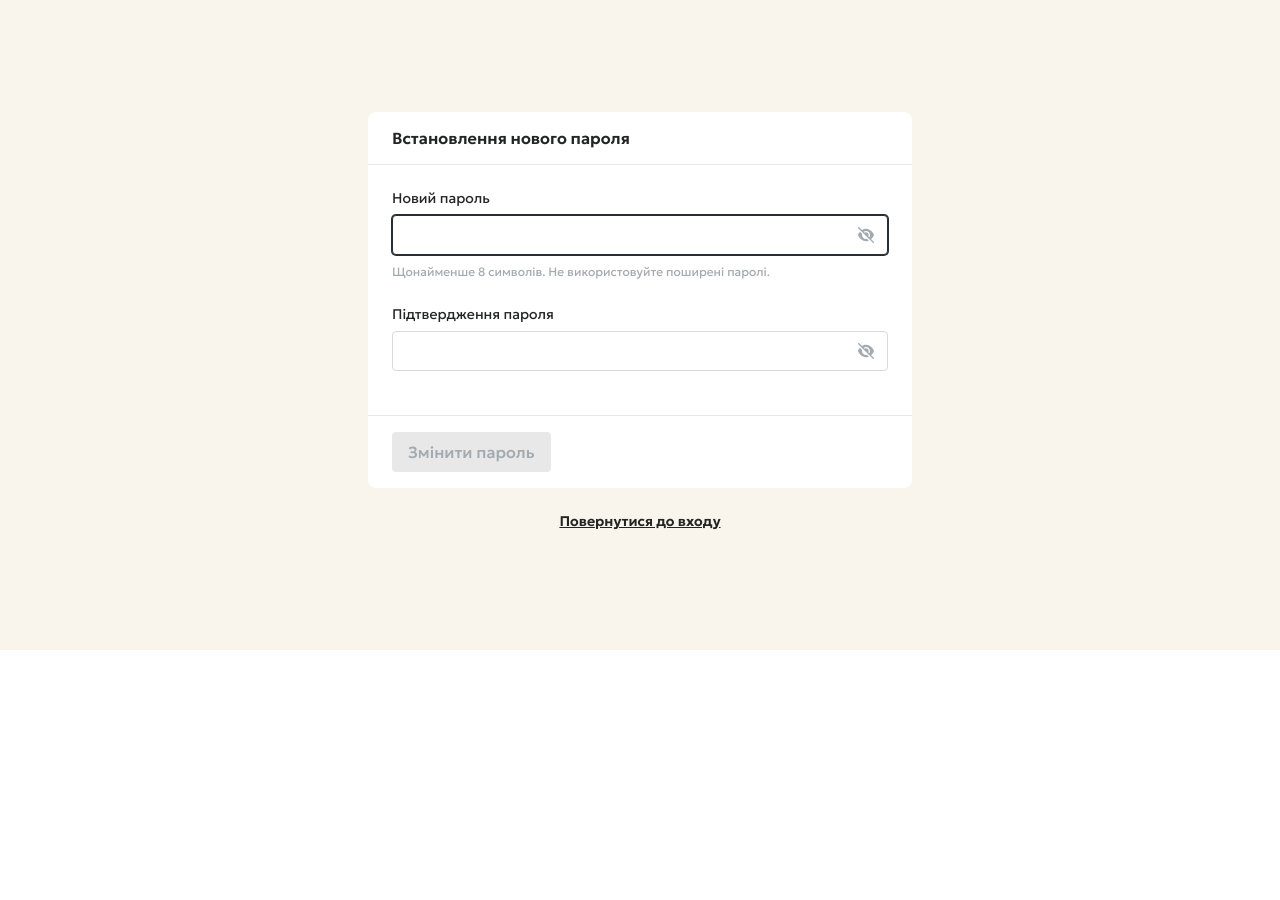
Test: RestorePassword page › shows password complexity errors returned by the backend
Step 1. Type "SecurePass123!" into the password field labelled "Новий пароль" → (640, 235), box [392,215,888,255]
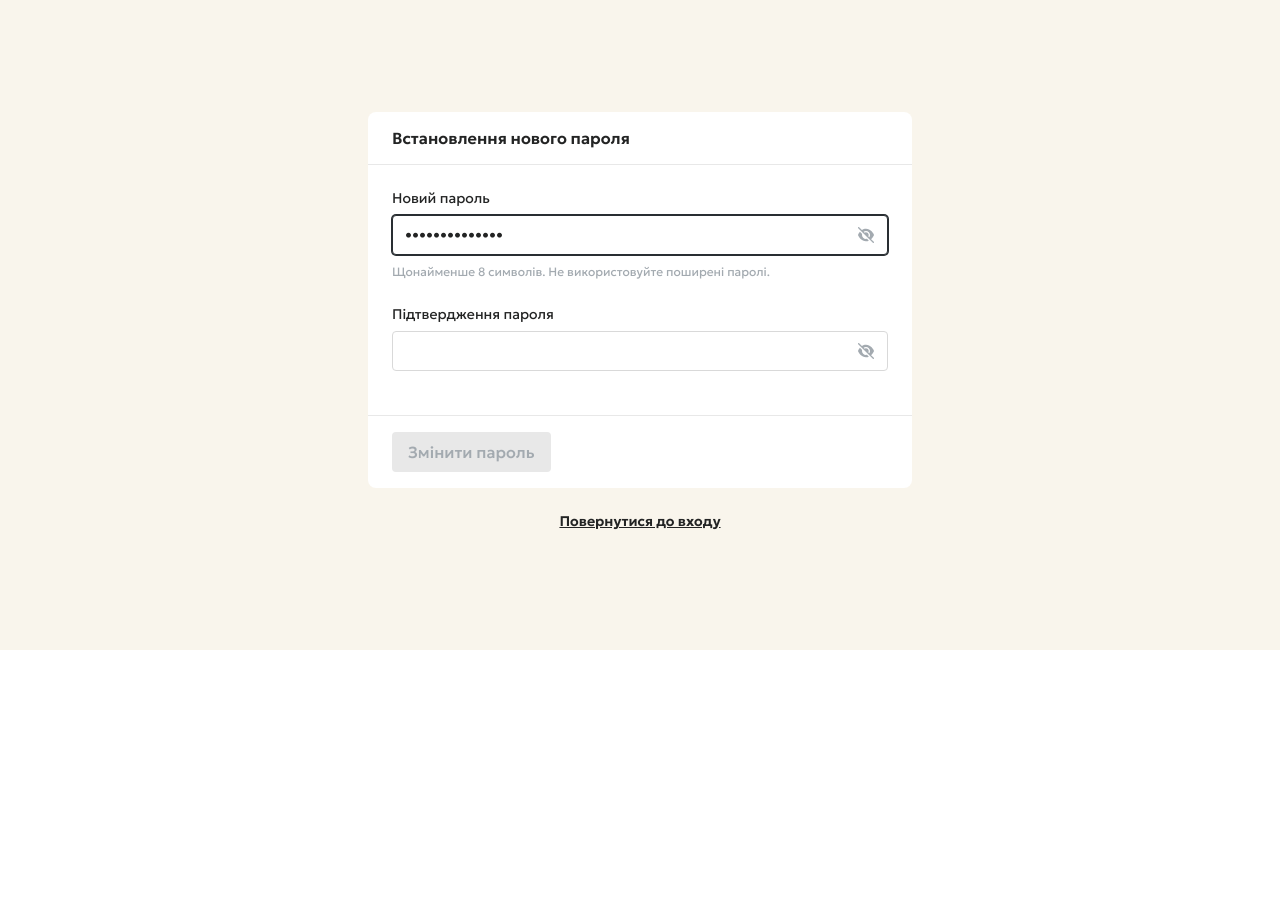
Step 2. Type "SecurePass123!" into the password field labelled "Підтвердження пароля" → (640, 351), box [392,331,888,371]
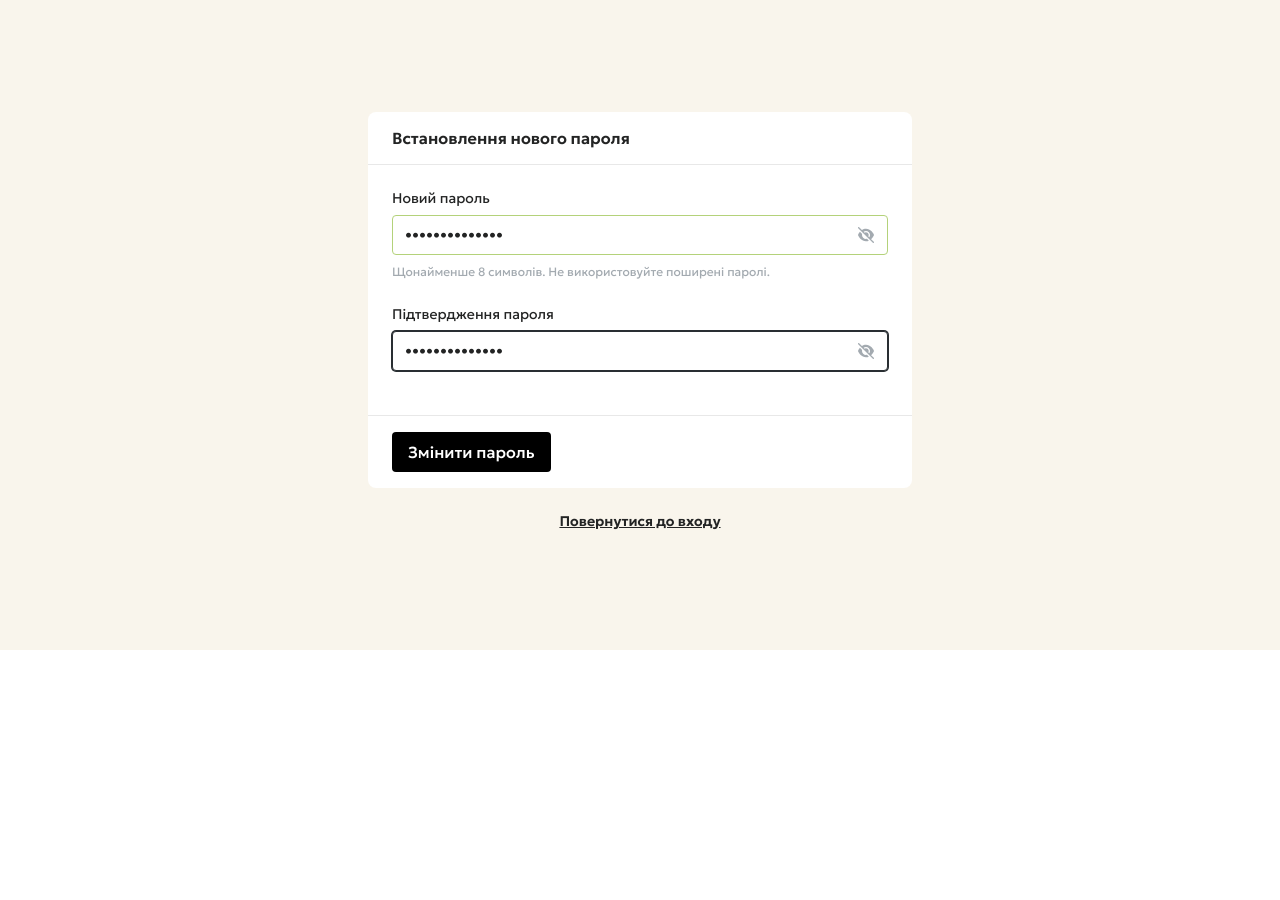
Step 3. Click the button "Змінити пароль" → (471, 452), box [392,432,551,472]
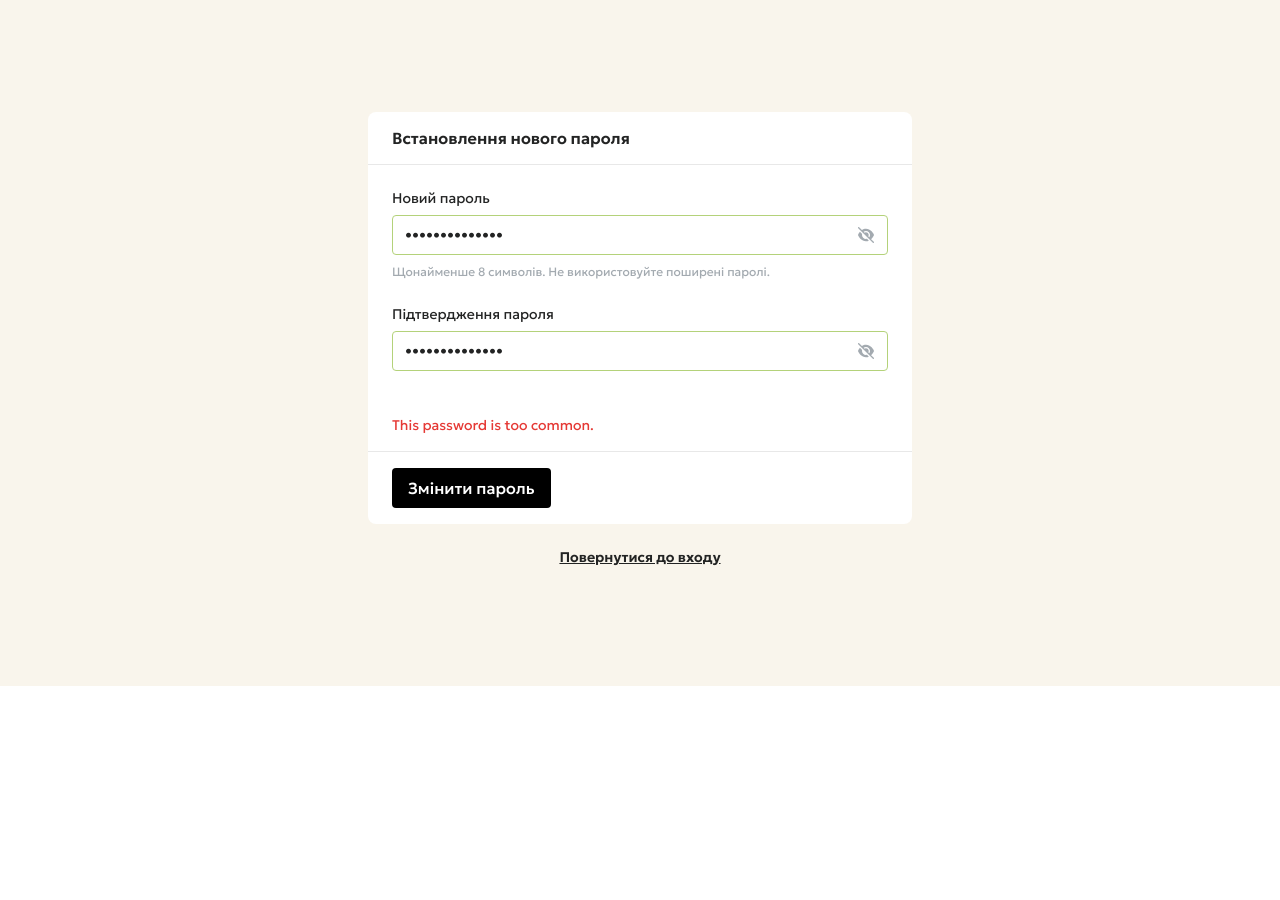
Check: the button "Змінити пароль" is enabled, box [392,468,551,508]
Check: the message reads "This password is too common.", box [392,416,594,434]
